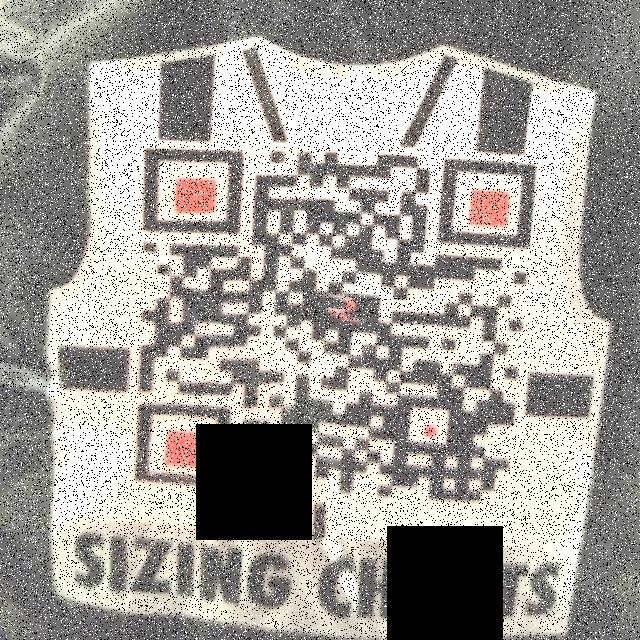QR_CODE: (93, 126, 566, 514)
